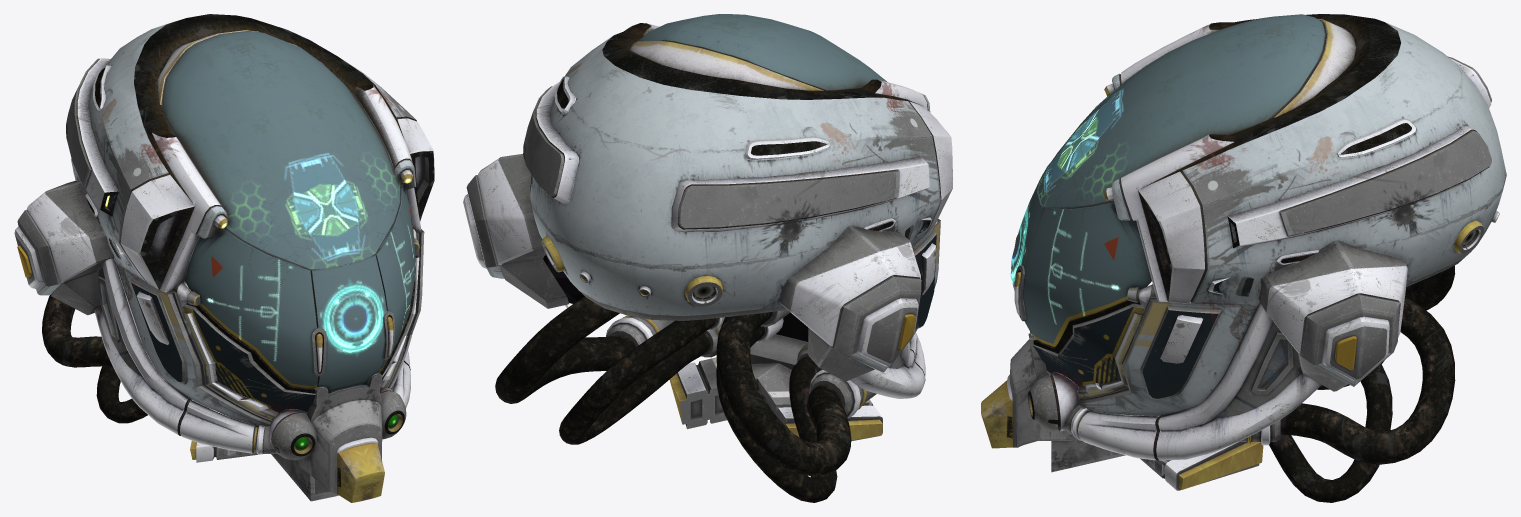
3 views of the same model, side by side, from view 1: azimuth 30°, elevation 25°; view 2: azimuth 150°, elevation 25°; view 3: azimuth 270°, elevation 25° (orthographic). The views are drawn at different scales.
Parts seen in each view (by area): view 1: node_damagedHelmet_-6514_0; view 2: node_damagedHelmet_-6514_0; view 3: node_damagedHelmet_-6514_0.
Boxes of the visible parts, x1,y1,x2,y2 form: node_damagedHelmet_-6514_0: (14, 14, 434, 502); node_damagedHelmet_-6514_0: (463, 14, 952, 502); node_damagedHelmet_-6514_0: (981, 14, 1506, 502).
Bounding box in the file's own units: 1.89 × 1.8 × 2.
Materials: 1 (1 with a texture image).
